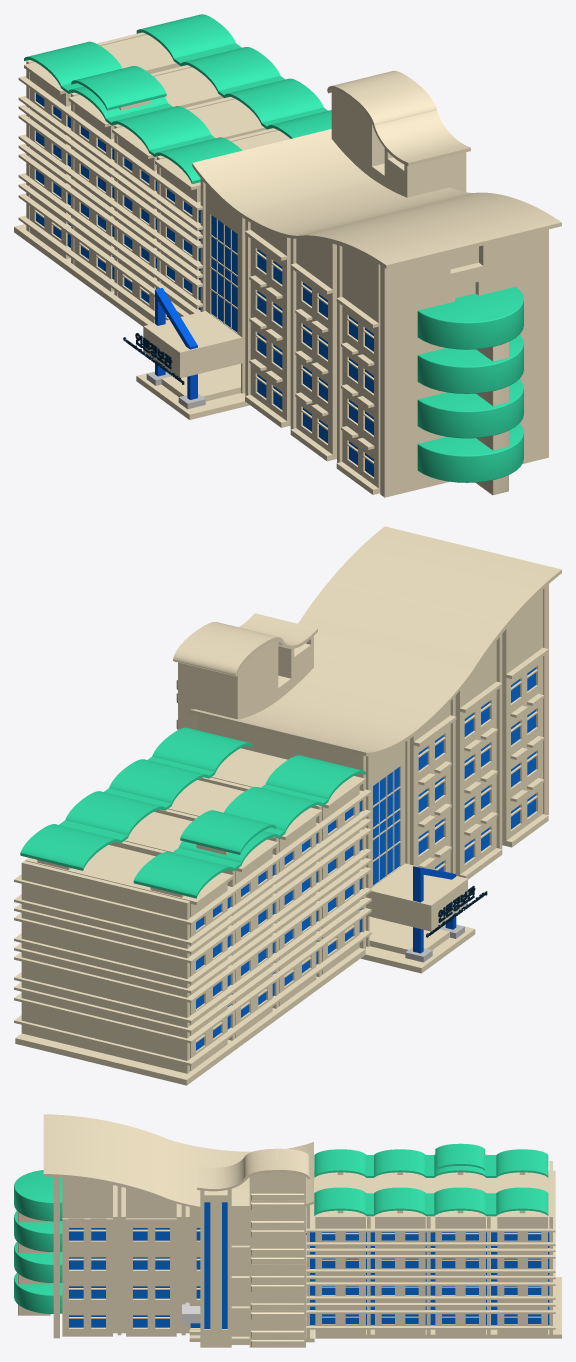
Rendered from 언정대.fbx.
The picture shows the model from 3 angles, top to bottom: view 1: azimuth 30°, elevation 25°; view 2: azimuth 150°, elevation 25°; view 3: azimuth 270°, elevation 25°; orthographic projection. The views are drawn at different scales.
Parts seen in each view (by area): view 1: Extrude_13, Cube_18, Cube_1_2, Cube_1_3, Cube_19, Cube_1_4, Extrude_2, Cube_5_3, Cube_5, Cube_5_2, Cylinder, Cylinder_2 (+40 smaller); view 2: Extrude_13, Cube_18_2, Cube_1_2, Cube_5, Cube_1_3, Cube_19, Cube_25, Cube_1_4, Cube_5_5, Cube_5_2, Cube_5_3, Extrude_2 (+37 smaller); view 3: Extrude_13, Cube_25, Cube_1_2, Cube_1_3, Cube_5, Cube_5_3, Cube_5_2, Cube_5_5, Cube_22, Cube_24, Extrude_2, Cube_7_11 (+43 smaller).
Part boxes in pixels (x1,y1,x2,y2): Extrude_13: (192, 129, 561, 268); Cube_18: (380, 229, 548, 497); Cube_1_2: (336, 246, 478, 494); Cube_1_3: (290, 239, 336, 461); Cube_19: (136, 311, 249, 419); Cube_1_4: (245, 223, 290, 427); Extrude_2: (327, 70, 470, 166); Cube_5_3: (102, 99, 271, 326); Cube_5: (14, 34, 180, 265); Cube_5_2: (59, 67, 223, 298); Cylinder: (417, 286, 523, 349); Cylinder_2: (417, 379, 523, 438); Extrude_13: (189, 526, 561, 756); Cube_18_2: (21, 861, 189, 1073); Cube_1_2: (502, 590, 548, 847); Cube_5: (15, 845, 233, 1085); Cube_1_3: (455, 641, 502, 879); Cube_19: (360, 863, 475, 973); Cube_25: (176, 637, 278, 729); Cube_1_4: (410, 701, 456, 872); Cube_5_5: (211, 748, 365, 988); Cube_5_2: (124, 812, 278, 1050); Cube_5_3: (168, 780, 322, 1017); Extrude_2: (173, 613, 317, 676); Extrude_13: (43, 1114, 313, 1208); Cube_25: (249, 1149, 305, 1347); Cube_1_2: (62, 1177, 112, 1336); Cube_1_3: (126, 1188, 176, 1336); Cube_5: (497, 1172, 561, 1338); Cube_5_3: (375, 1172, 439, 1338); Cube_5_2: (435, 1172, 499, 1338); Cube_5_5: (315, 1172, 379, 1338); Cube_22: (200, 1189, 231, 1347); Cube_24: (231, 1189, 249, 1344); Extrude_2: (197, 1148, 309, 1191); Cube_7_11: (306, 1170, 555, 1232).
Bounding box in the file's own units: 450 × 430 × 1179.
